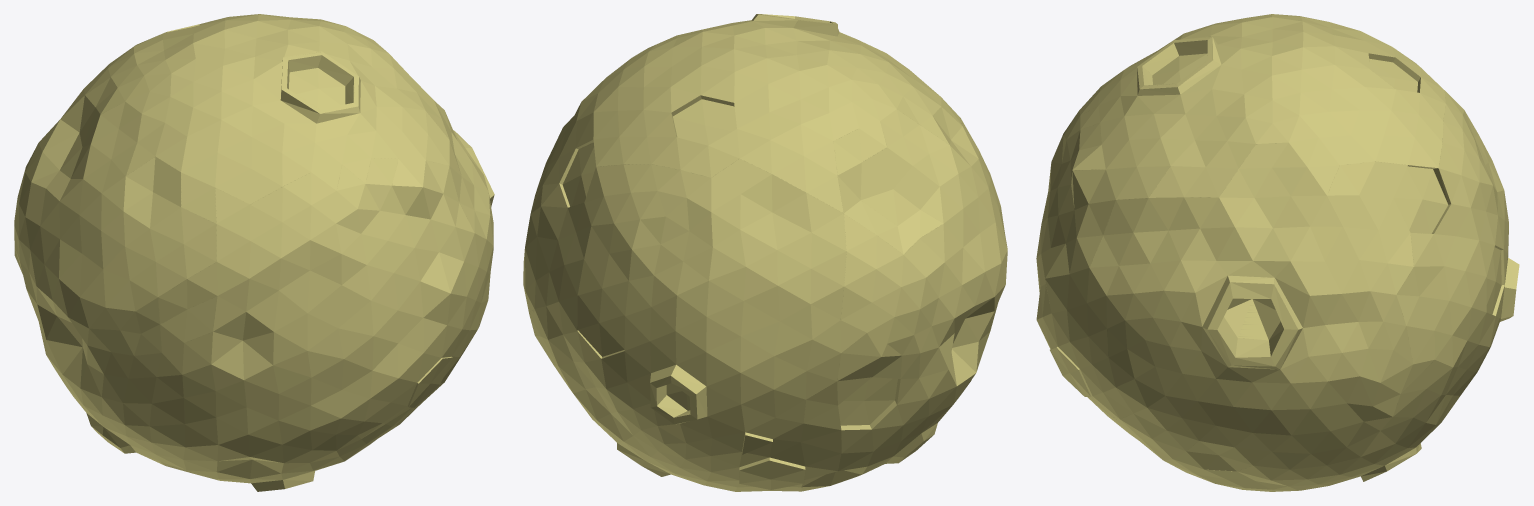
The model's file is 45fced52-df3b-4677-a556-9a7fad11c461.glb.
The picture shows the model from 3 angles, left to right: view 1: azimuth 30°, elevation 25°; view 2: azimuth 150°, elevation 25°; view 3: azimuth 270°, elevation 25°; orthographic projection.
Parts seen in each view (by area): view 1: Node; view 2: Node; view 3: Node.
Part boxes in pixels (box(x1,y1,x2,y2)): Node: box(14, 14, 494, 491); Node: box(523, 14, 1007, 491); Node: box(1036, 14, 1519, 491).
Bounding box in the file's own units: 315 × 303 × 309.
Materials: 1 (1 with a texture image).
